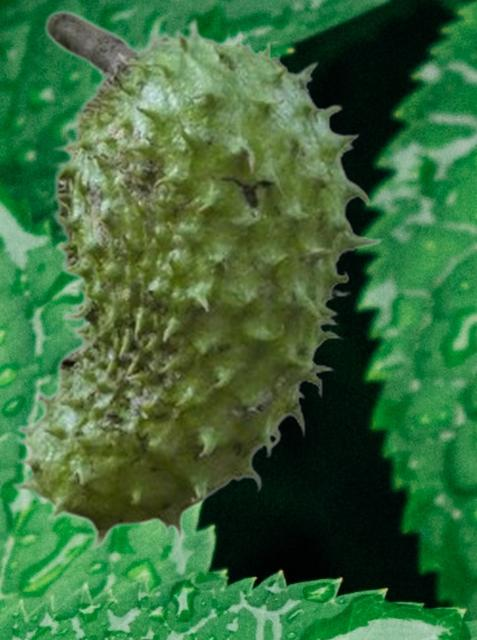guyabano: (9, 9, 383, 551)
